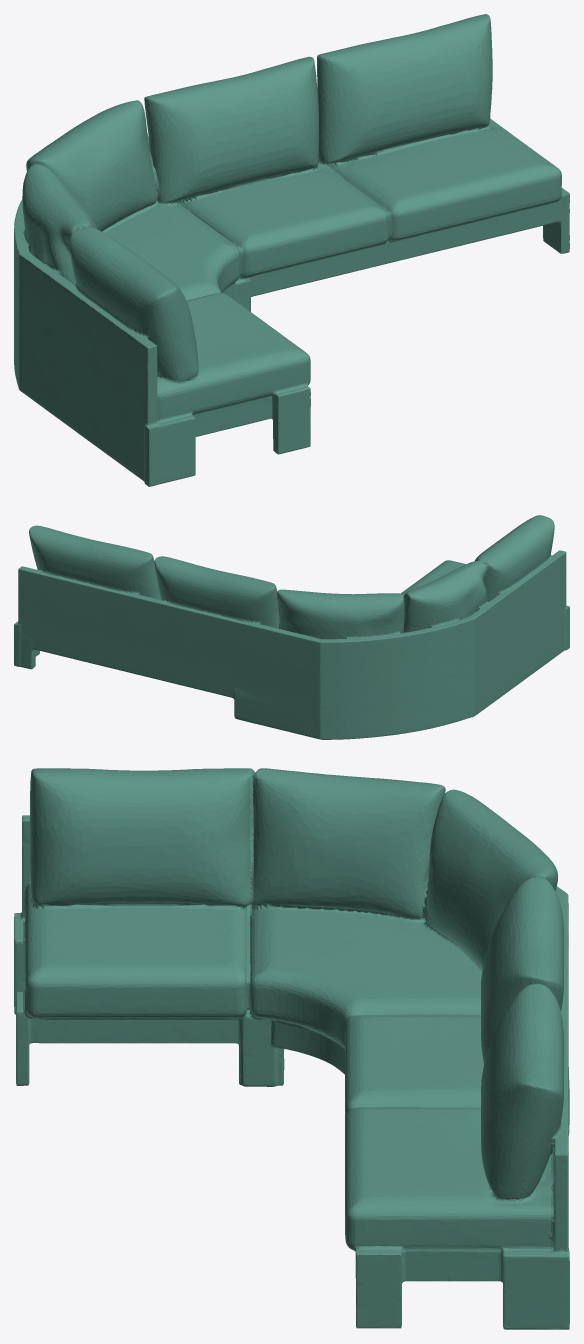
Rendered from sofa.glb.
3 renders of one model, top to bottom at view 1: azimuth 30°, elevation 25°; view 2: azimuth 150°, elevation 25°; view 3: azimuth 270°, elevation 25°, orthographic. The views are drawn at different scales.
Parts seen in each view (by area): view 1: mesh_node; view 2: mesh_node; view 3: mesh_node.
Part boxes in pixels (left/top/right/bottom): mesh_node: left=14, top=14, right=569, bottom=486; mesh_node: left=14, top=515, right=569, bottom=739; mesh_node: left=14, top=768, right=569, bottom=1329.
Size of the model in its own units: 1.9 by 0.6132 by 1.3.
